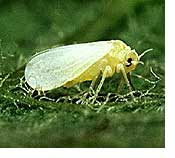whitefly: (24, 39, 156, 102)
